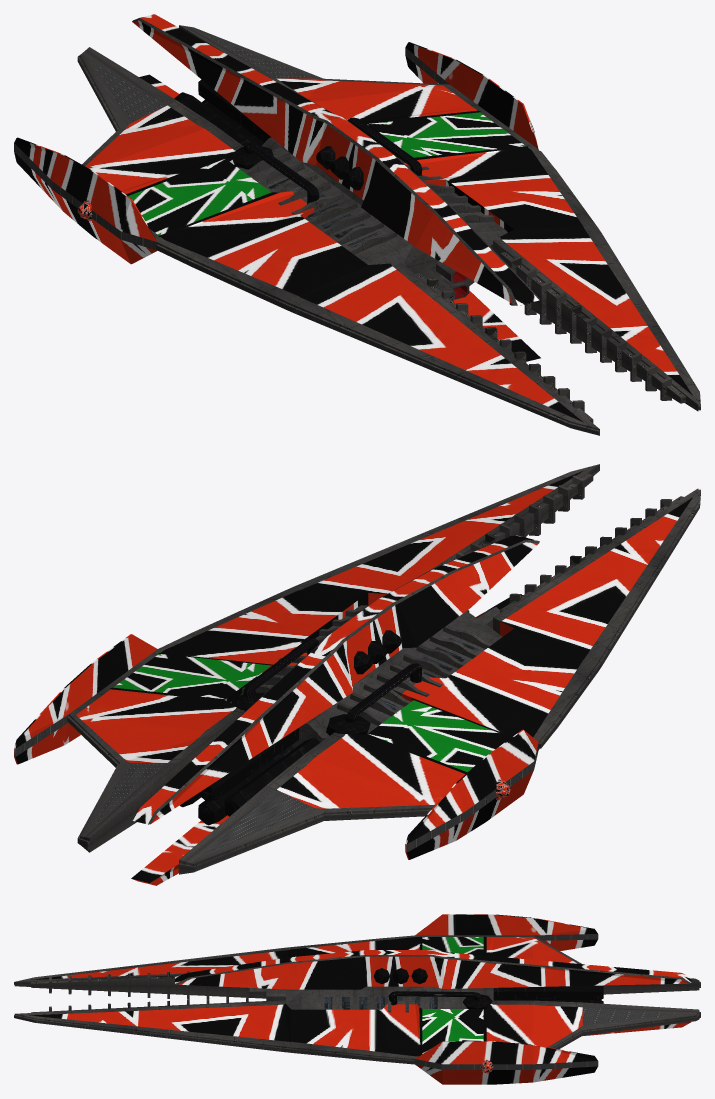
The model's file is bintak.glb.
The picture shows the model from 3 angles, top to bottom: view 1: azimuth 30°, elevation 25°; view 2: azimuth 150°, elevation 25°; view 3: azimuth 270°, elevation 25°; orthographic projection. The views are drawn at different scales.
Parts seen in each view (by area): view 1: BinTak_Civ_low_poly; view 2: BinTak_Civ_low_poly; view 3: BinTak_Civ_low_poly.
Part boxes in pixels (bbox=[...]): BinTak_Civ_low_poly: bbox=[14, 14, 700, 435]; BinTak_Civ_low_poly: bbox=[14, 464, 700, 885]; BinTak_Civ_low_poly: bbox=[14, 914, 700, 1084].
Bounding box in the file's own units: 191 × 60.73 × 399.
7 materials, 7 textured.
